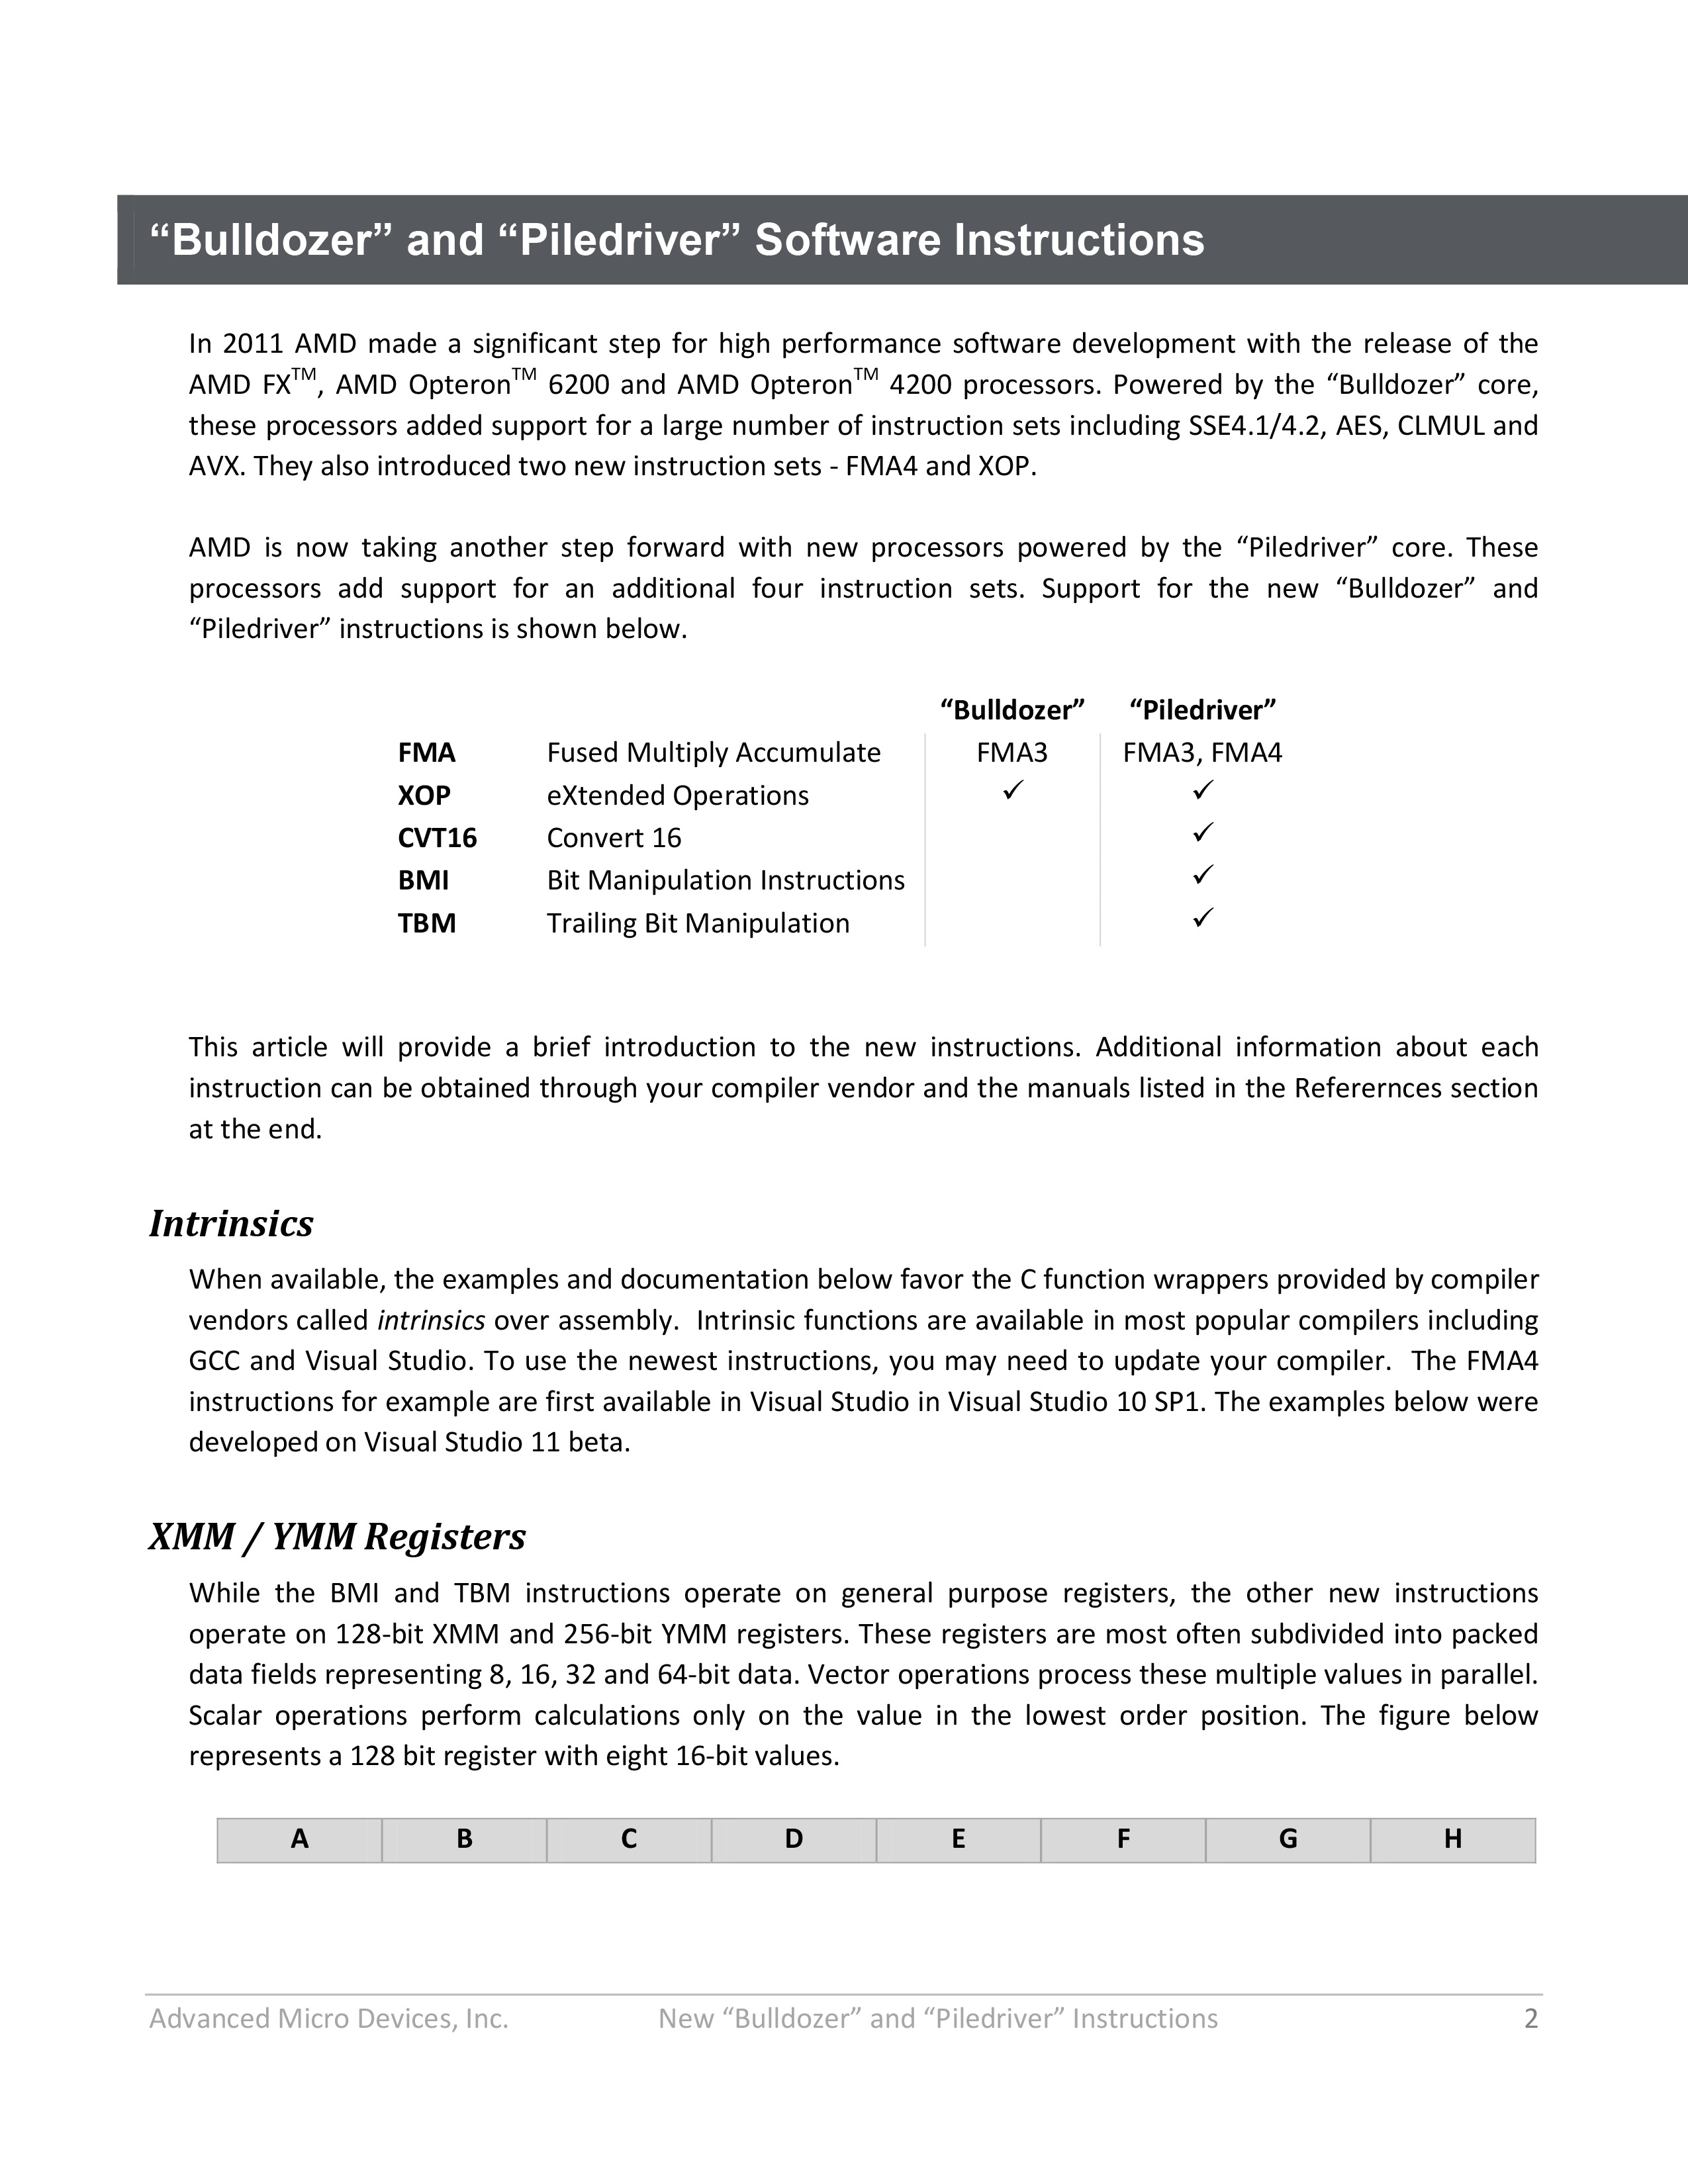section: (129, 193, 1229, 269), (133, 1501, 543, 1562), (133, 1179, 323, 1244)
table: (383, 690, 1301, 945), (204, 1798, 1532, 1874)
text: (193, 1571, 1559, 1767), (147, 1266, 1544, 1455), (177, 319, 1544, 489), (183, 1009, 1536, 1156), (149, 526, 1571, 663)
